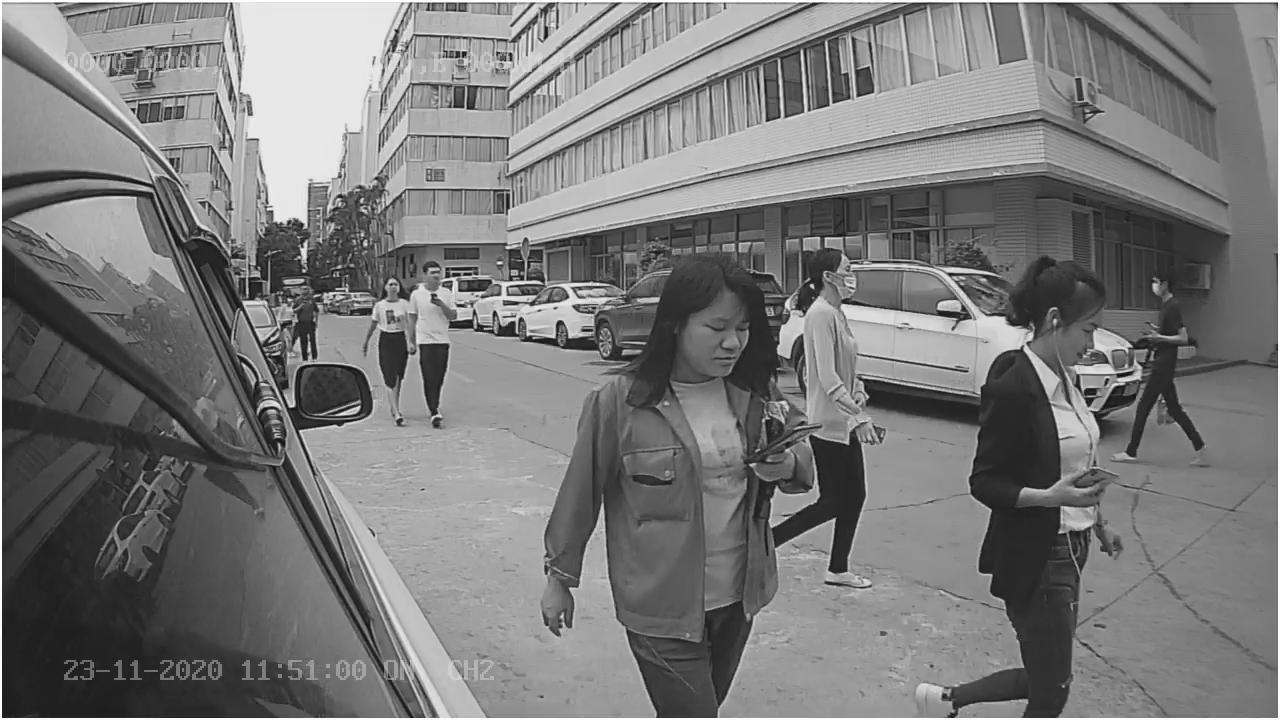person: (968, 259, 1124, 555), (363, 267, 421, 361)
